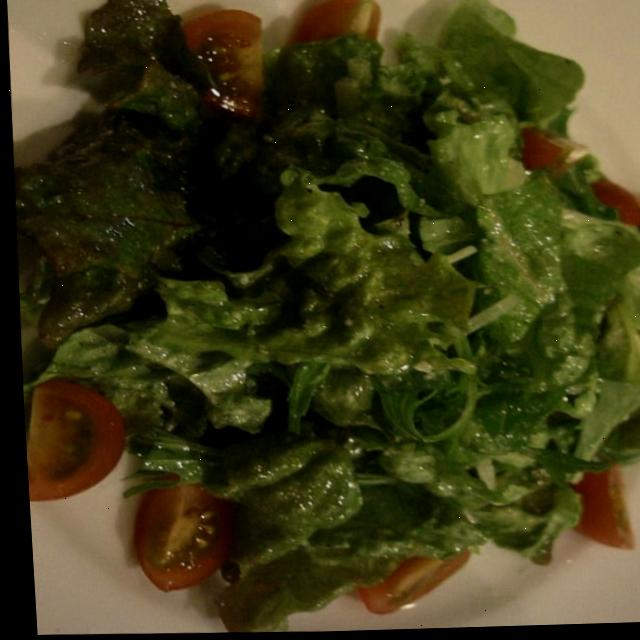蔬菜料理: (168, 137, 640, 636)
